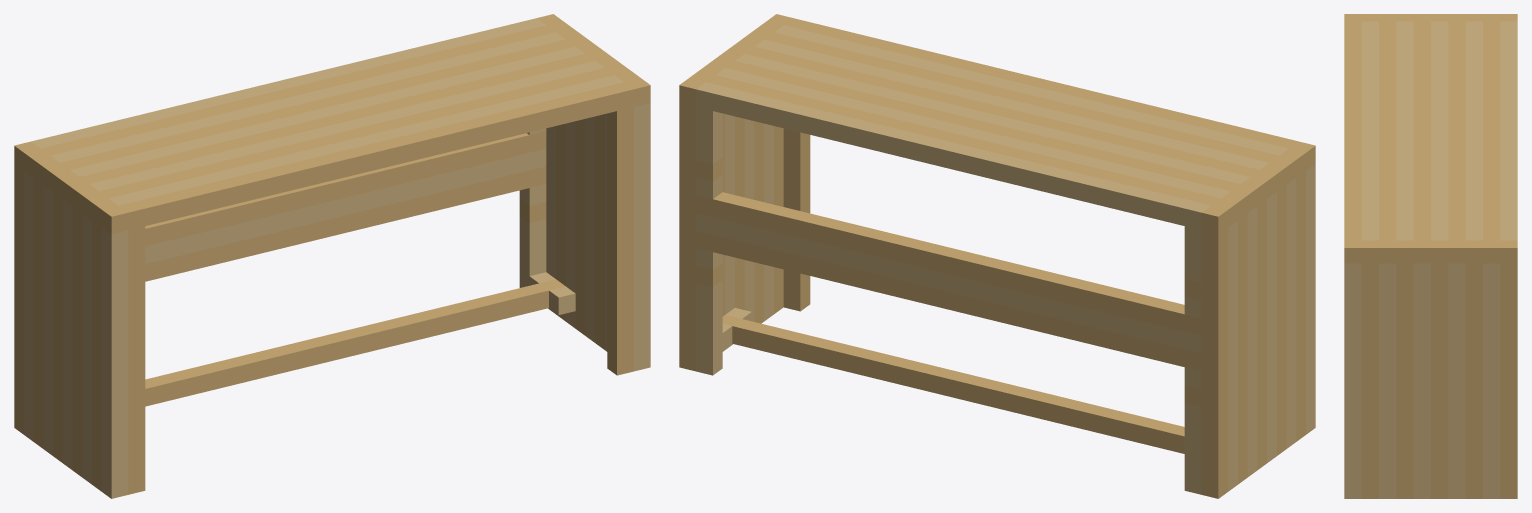
Rendered from StoreDecor_BambooBar.obj.
3 views of the same model, side by side, from view 1: azimuth 30°, elevation 25°; view 2: azimuth 150°, elevation 25°; view 3: azimuth 270°, elevation 25° (orthographic). The views are drawn at different scales.
Visible parts, largest first — view 1: StoreDecor_BambooBar; view 2: StoreDecor_BambooBar; view 3: StoreDecor_BambooBar.
Part boxes in pixels (x1,y1,x2,y2): StoreDecor_BambooBar: (14, 14, 650, 498); StoreDecor_BambooBar: (679, 14, 1315, 498); StoreDecor_BambooBar: (1344, 14, 1517, 498).
Size of the model in its own units: 32 by 16 by 10.
Materials: 1 (1 with a texture image).
